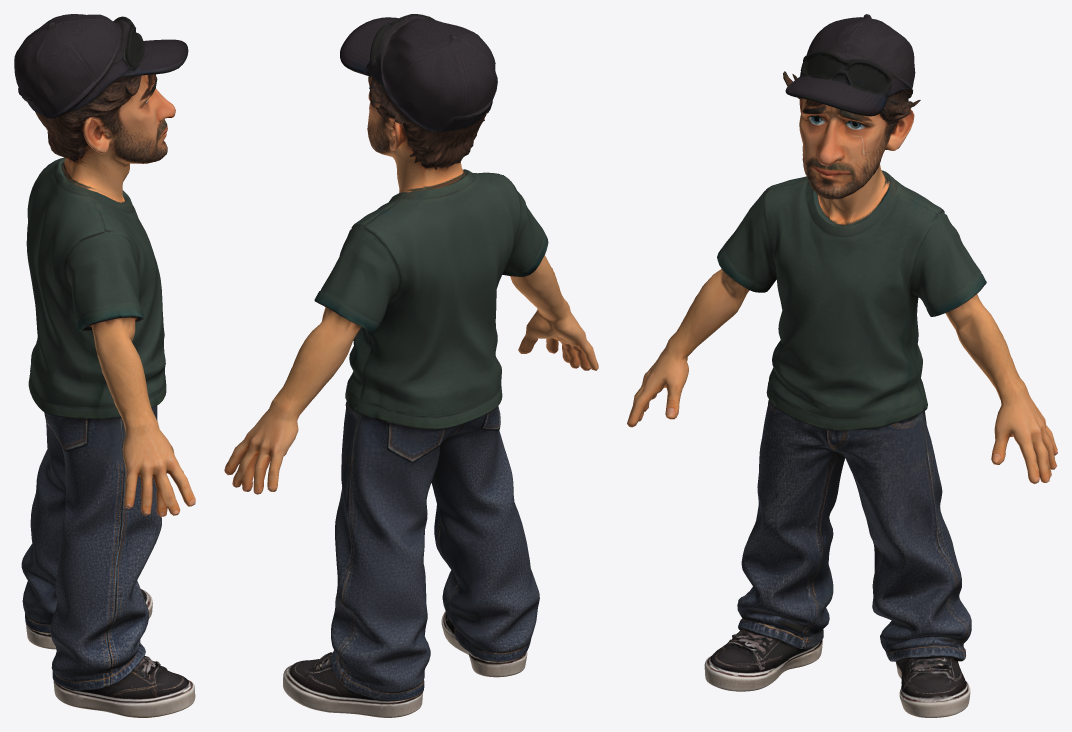
File: nymano.glb
3 renders of one model, left to right at view 1: azimuth 30°, elevation 25°; view 2: azimuth 150°, elevation 25°; view 3: azimuth 270°, elevation 25°, orthographic.
Visible parts, largest first — view 1: tripo_node_19f34ea7-ec76-4d98-a3e3-75b7b87b02b4; view 2: tripo_node_19f34ea7-ec76-4d98-a3e3-75b7b87b02b4; view 3: tripo_node_19f34ea7-ec76-4d98-a3e3-75b7b87b02b4.
Boxes of the visible parts, bbox=[...] form: tripo_node_19f34ea7-ec76-4d98-a3e3-75b7b87b02b4: bbox=[14, 14, 195, 717]; tripo_node_19f34ea7-ec76-4d98-a3e3-75b7b87b02b4: bbox=[224, 14, 598, 717]; tripo_node_19f34ea7-ec76-4d98-a3e3-75b7b87b02b4: bbox=[627, 14, 1057, 717].
Size of the model in its own units: 0.2845 by 0.9996 by 0.6027.
Materials: 1 (1 with a texture image).
